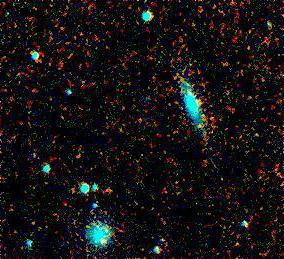star: (230, 27, 260, 57)
